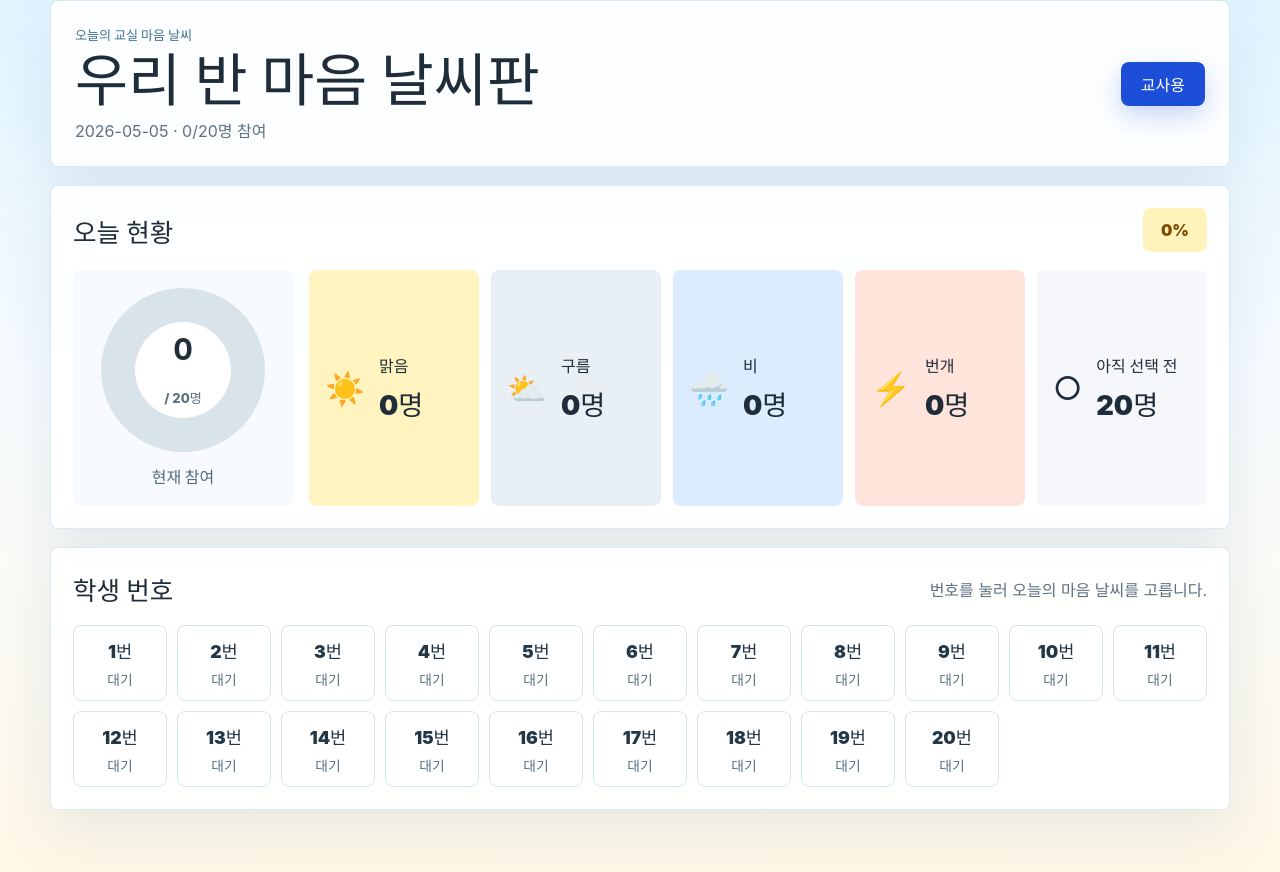
Test: Classroom emotion tracker app › requires first-time PIN setup before teacher details are visible
Click the button with aria-label "선생님 모드 열기" at (1163, 84), box [1121,62,1205,106]
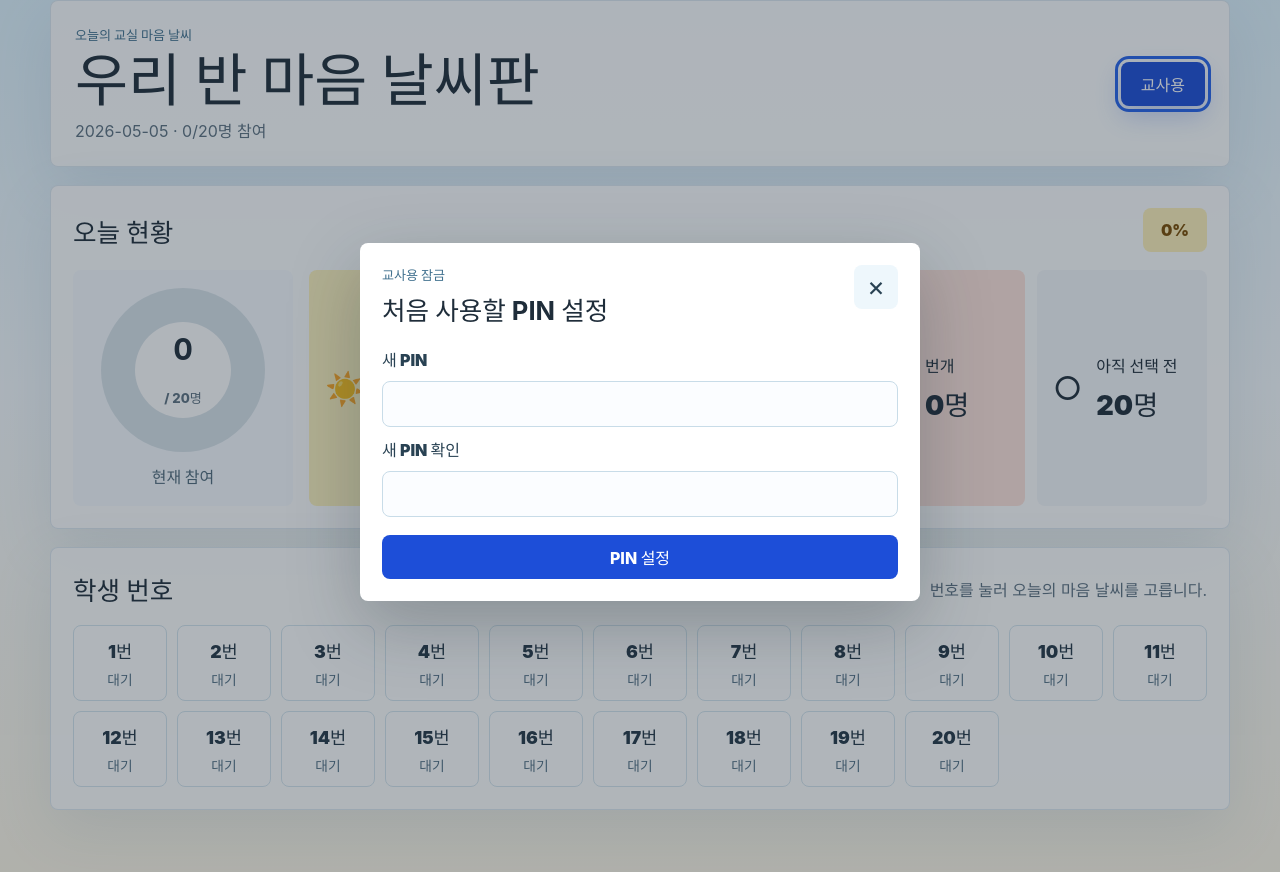
Type "2468" into the password field labelled "새 PIN" at (640, 404), box [382,381,898,427]
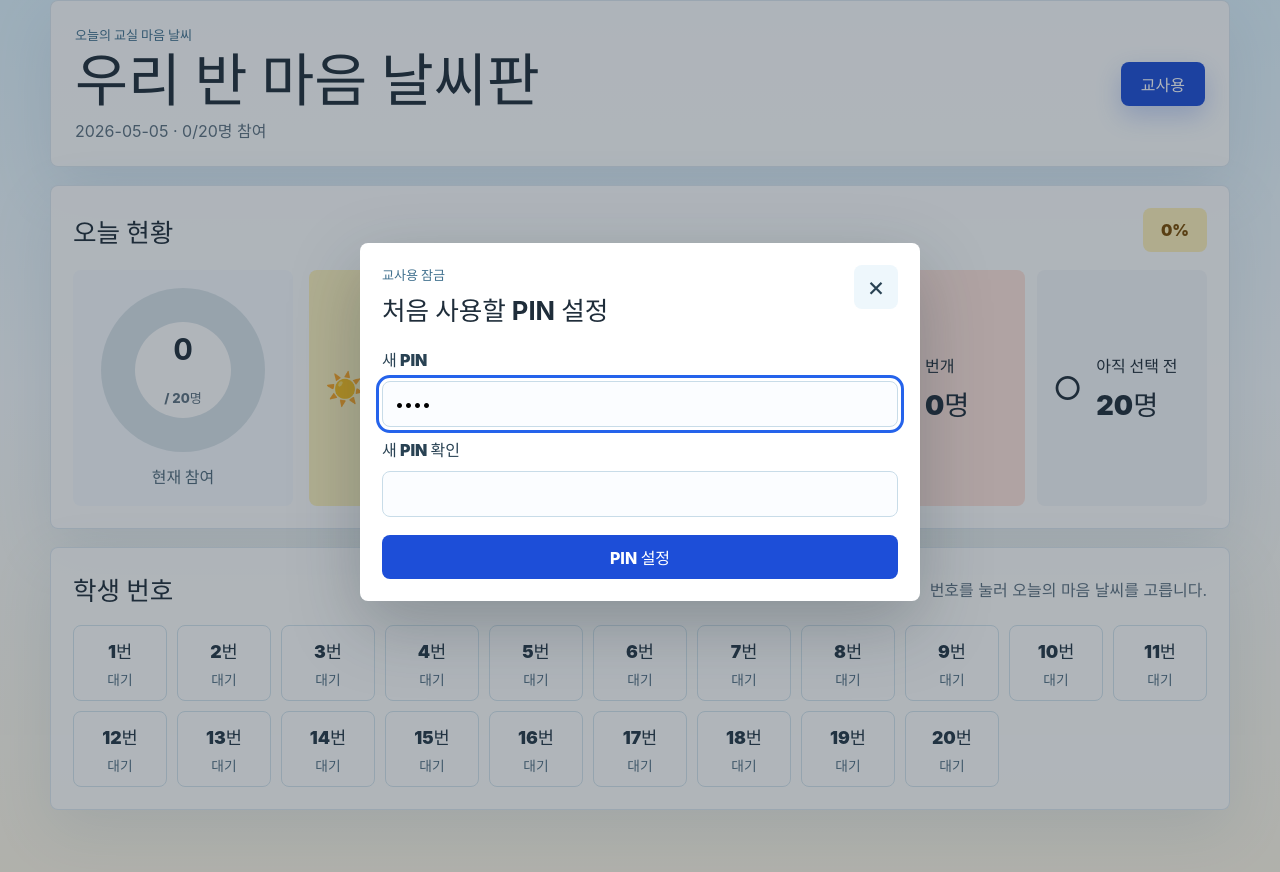
Type "2468" into the password field labelled "새 PIN 확인" at (640, 494), box [382,471,898,517]
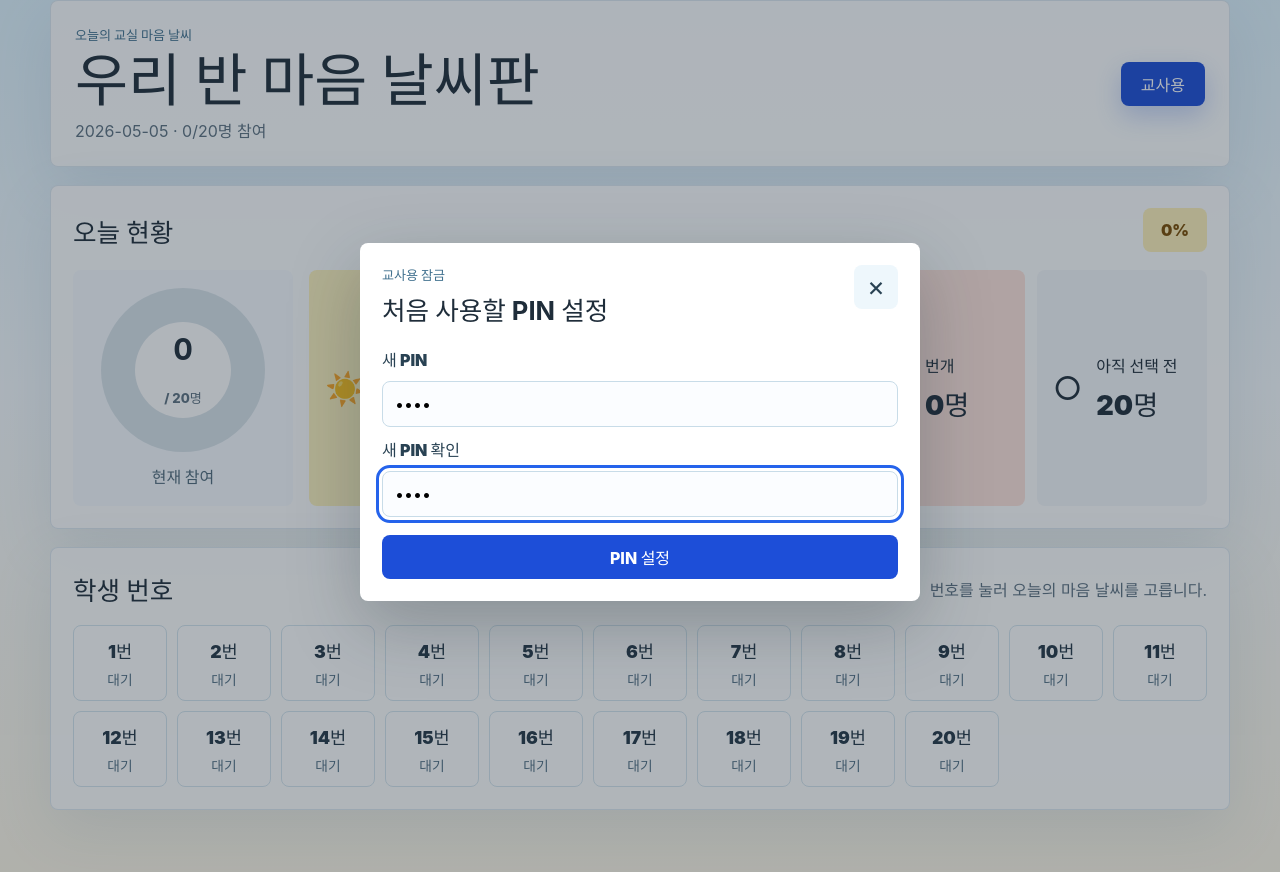
Click the button "PIN 설정" at (640, 557), box [382,535,898,579]
(page scrolled)
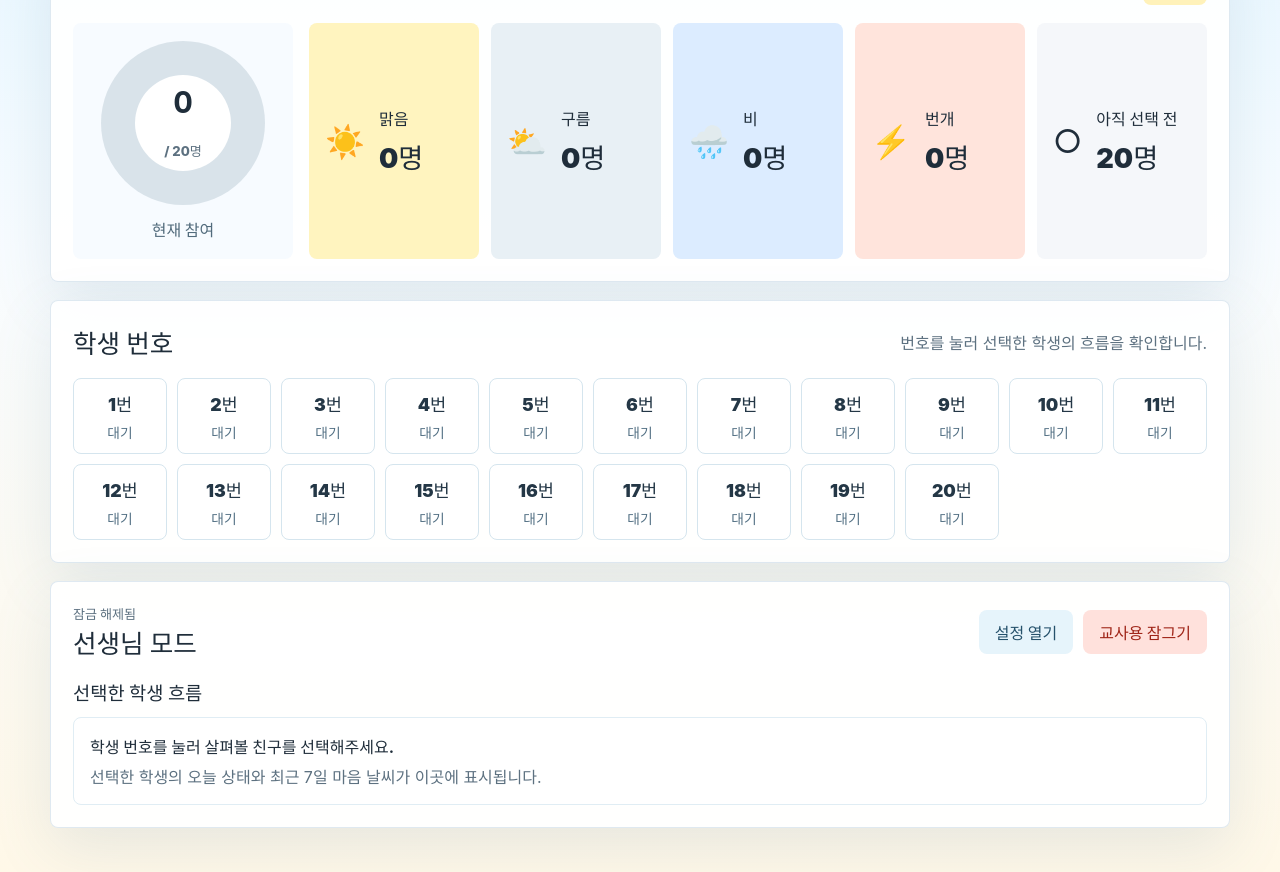
Now the heading "선생님 모드" is shown, box [73,624,197,660]
Now the heading "선택한 학생 흐름" is shown, box [73,682,202,706]
